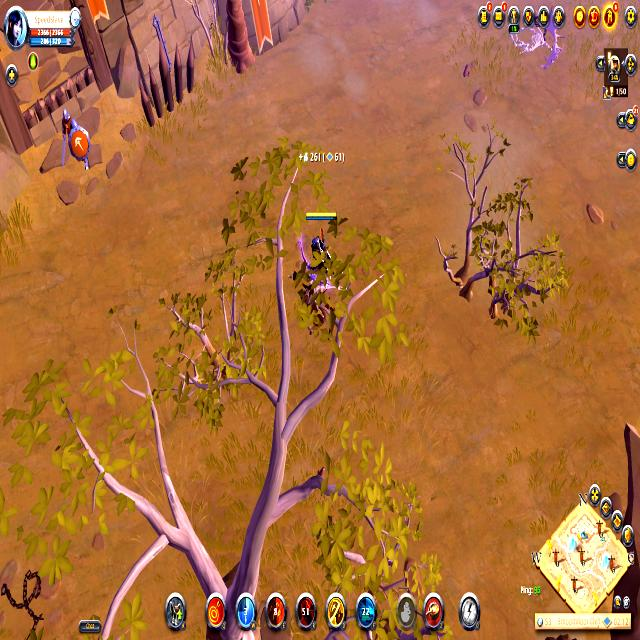red: (302, 208, 337, 270)
